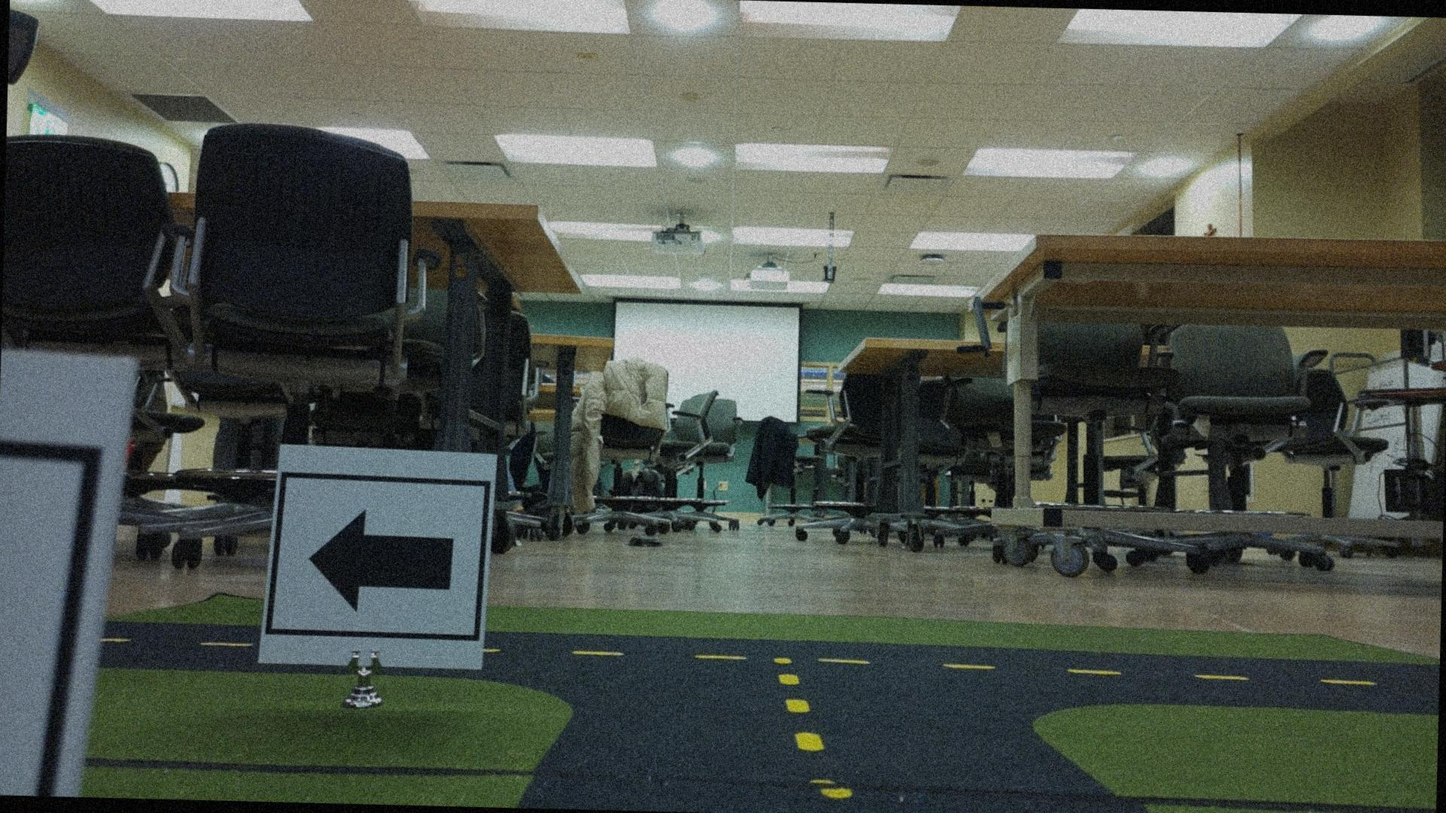turnleft: (269, 449, 488, 676)
yellowline: (774, 653, 827, 756)
